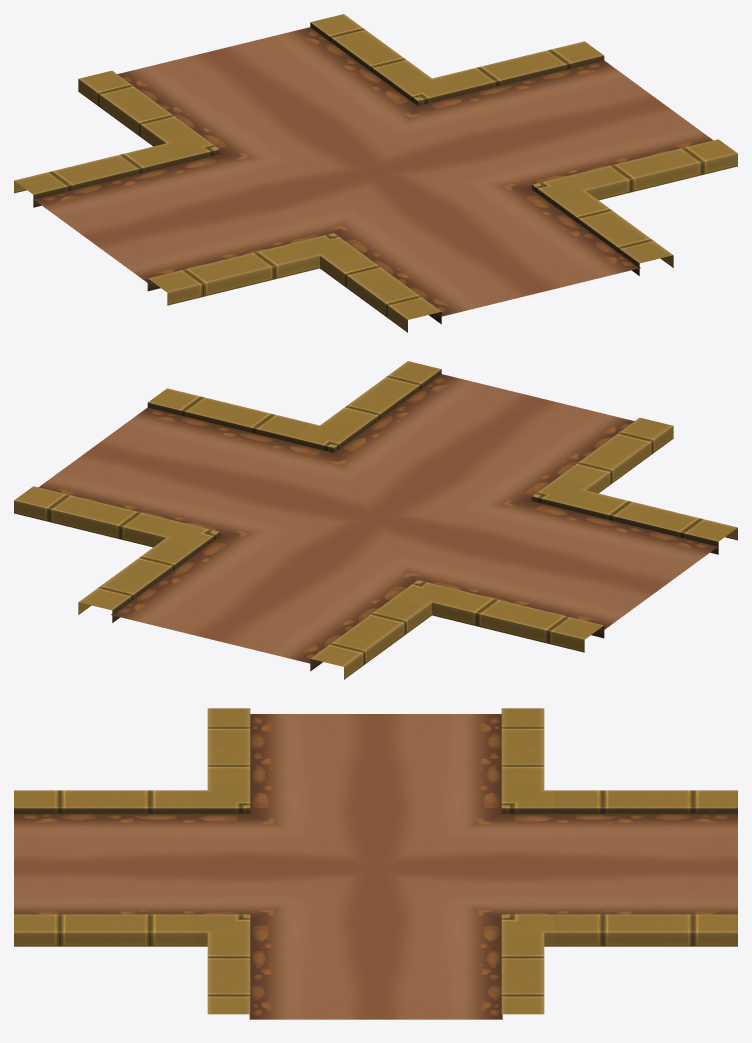
File: RoadPiece_04.FBX
The picture shows the model from 3 angles, top to bottom: view 1: azimuth 30°, elevation 25°; view 2: azimuth 150°, elevation 25°; view 3: azimuth 270°, elevation 25°; orthographic projection. The views are drawn at different scales.
Visible parts, largest first — view 1: RoadPiece_04; view 2: RoadPiece_04; view 3: RoadPiece_04.
Part boxes in pixels (x1=…): RoadPiece_04: x1=14, y1=14, x2=737, y2=332; RoadPiece_04: x1=14, y1=361, x2=737, y2=679; RoadPiece_04: x1=14, y1=708, x2=737, y2=1019.
Size of the model in its own units: 3.51 by 0.0761 by 3.51.
